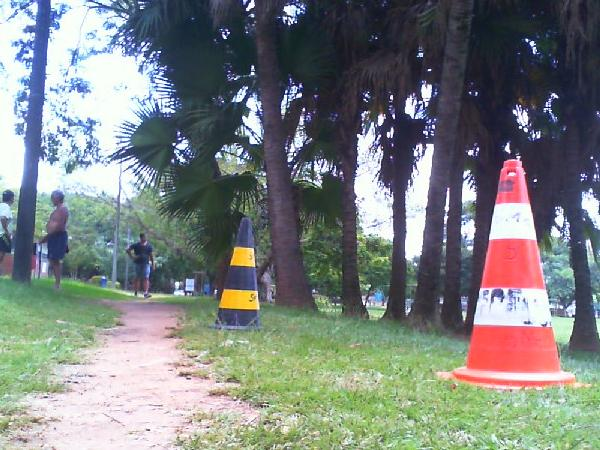0 cone: (438, 159, 574, 389), (207, 218, 261, 330)
